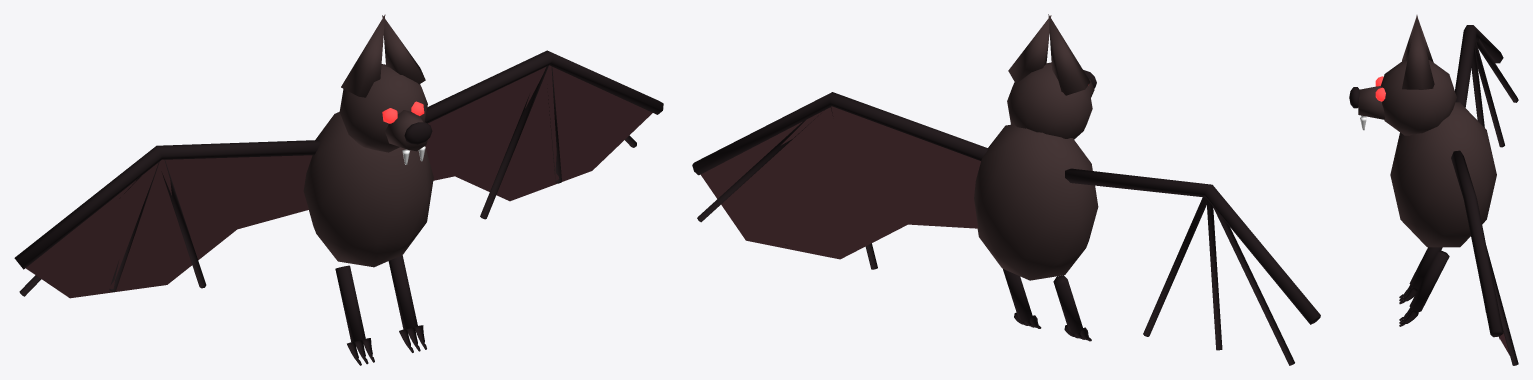
File: gothic-bat.glb
3 renders of one model, left to right at view 1: azimuth 30°, elevation 25°; view 2: azimuth 150°, elevation 25°; view 3: azimuth 270°, elevation 25°, orthographic. The views are drawn at different scales.
Visible parts, largest first — view 1: WingR Mesh, WingL Mesh, Body Mesh, Head Mesh, ArmR Mesh, ArmL Mesh; view 2: WingL Mesh, Body Mesh, WingR Mesh, Head Mesh, ArmR Mesh, ArmL Mesh; view 3: Body Mesh, Head Mesh, WingL Mesh, WingR Mesh, ArmL Mesh, ArmR Mesh.
Boxes of the visible parts, x1,y1,x2,y2 form: WingR Mesh: (14, 140, 320, 298); WingL Mesh: (425, 50, 663, 219); Body Mesh: (303, 112, 433, 267); Head Mesh: (339, 14, 432, 164); ArmR Mesh: (335, 265, 374, 365); ArmL Mesh: (388, 255, 426, 352); WingL Mesh: (692, 92, 988, 269); Body Mesh: (974, 124, 1098, 280); WingR Mesh: (1065, 168, 1320, 365); Head Mesh: (1007, 14, 1096, 139); ArmR Mesh: (1053, 275, 1091, 341); ArmL Mesh: (1003, 269, 1041, 328); Body Mesh: (1390, 102, 1496, 247); Head Mesh: (1349, 15, 1456, 135); WingL Mesh: (1451, 150, 1518, 365); WingR Mesh: (1455, 25, 1518, 147); ArmL Mesh: (1399, 250, 1449, 326); ArmR Mesh: (1399, 247, 1442, 304).
Size of the model in its own units: 2.48 by 1.23 by 0.6354.
